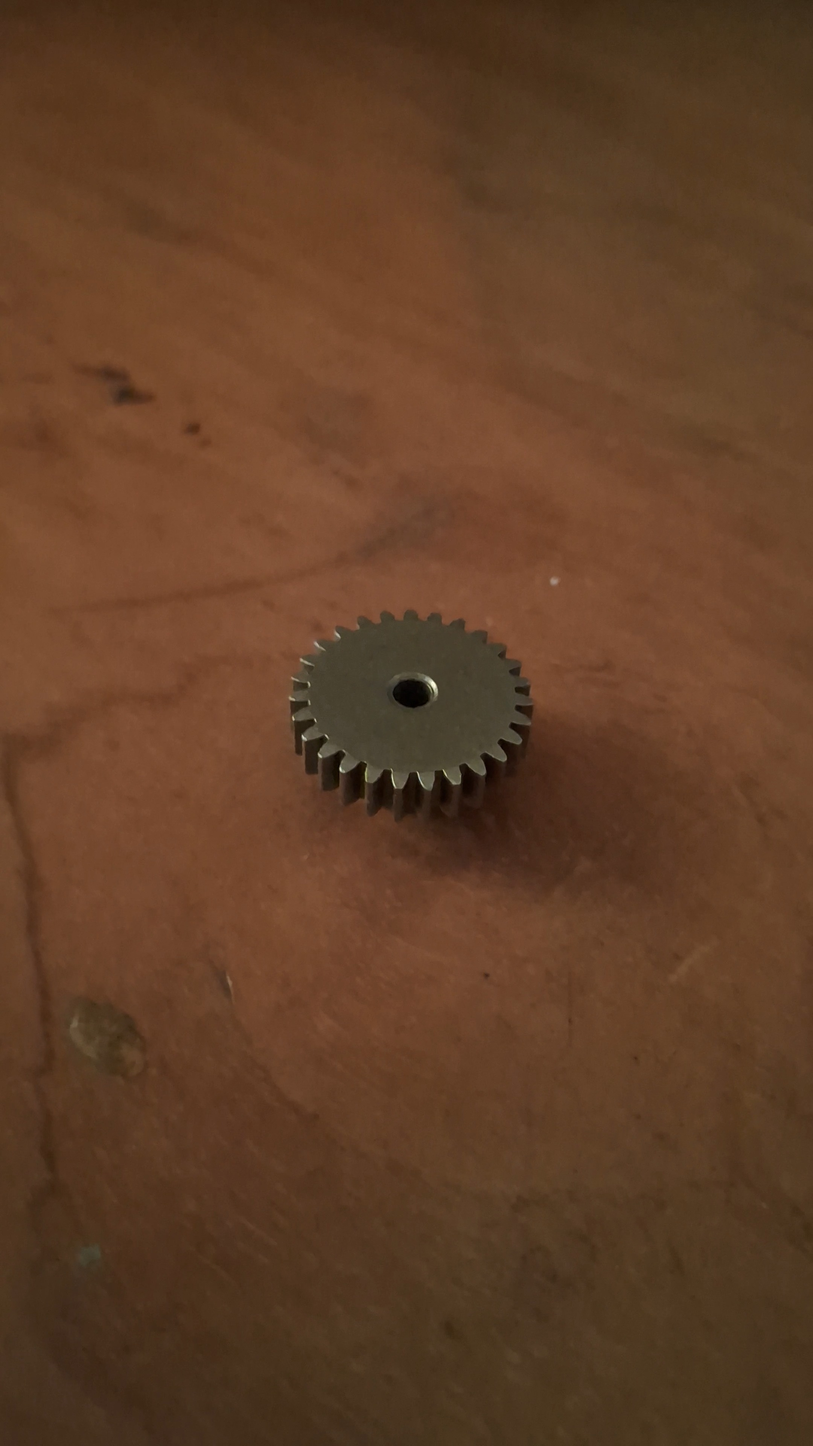spur gear: (290, 611, 532, 819)
